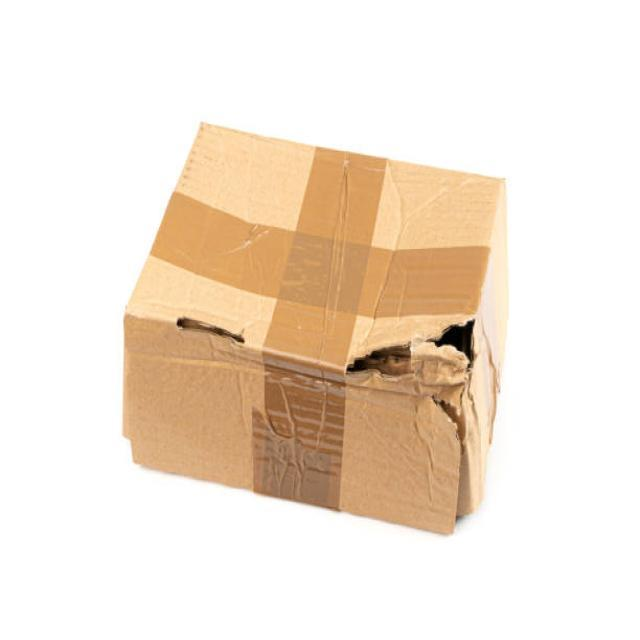box: (125, 122, 506, 533)
crushed: (361, 155, 456, 321), (413, 387, 491, 533), (125, 352, 277, 423)
opened: (344, 313, 482, 391), (166, 309, 251, 351)
